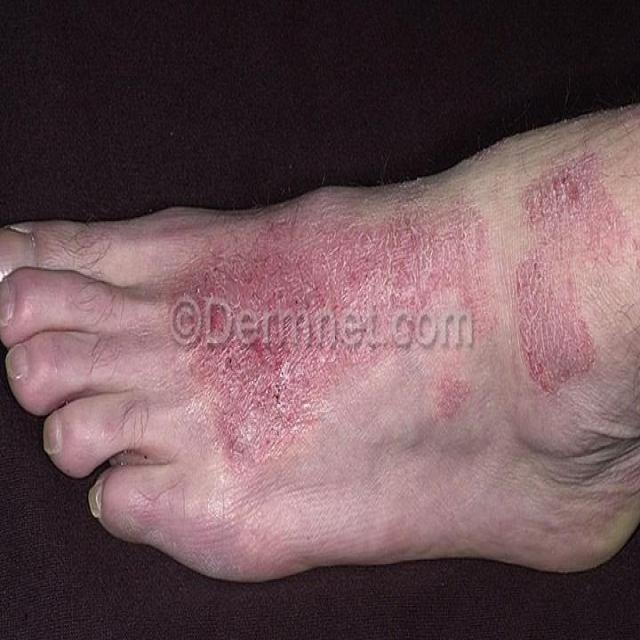Eczema: (151, 145, 619, 478)
